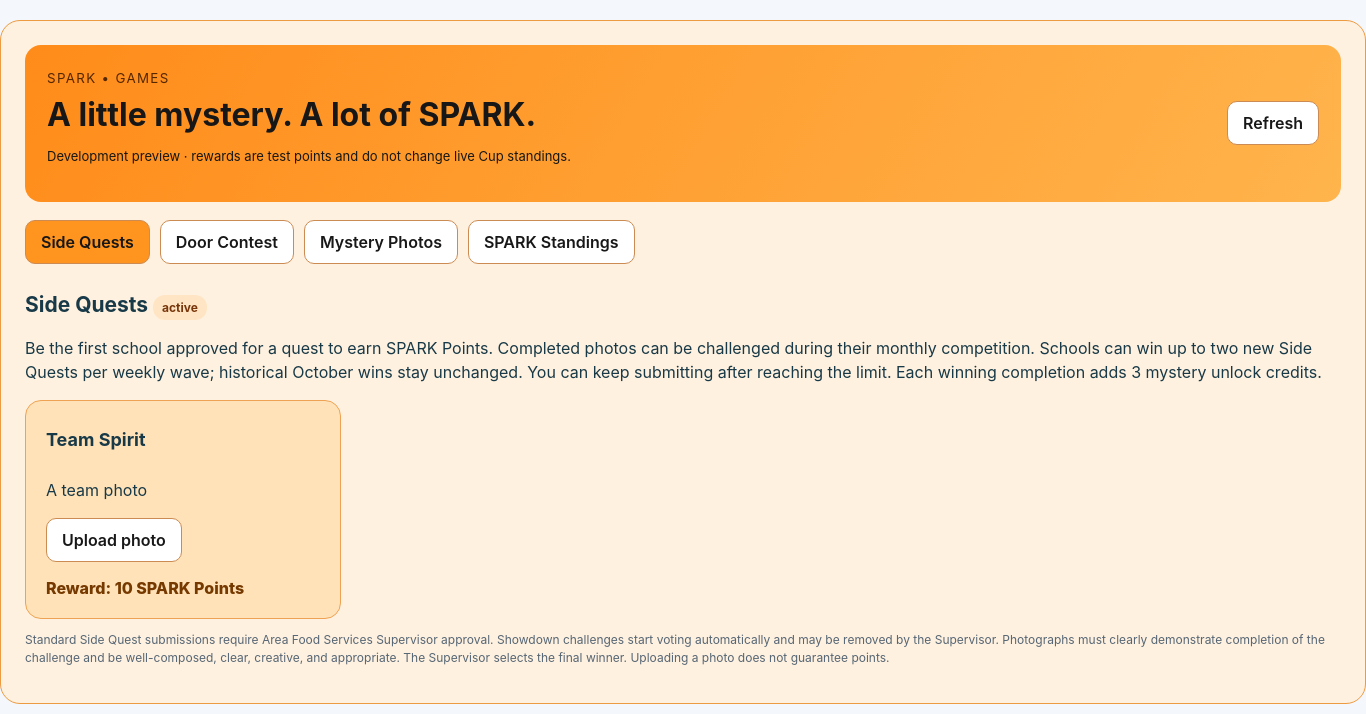
Test: a completed collection remains navigable when no current round is returned
Click the button "Mystery Photos" at [381, 242], box top-left (304, 220), bottom-right (458, 264)
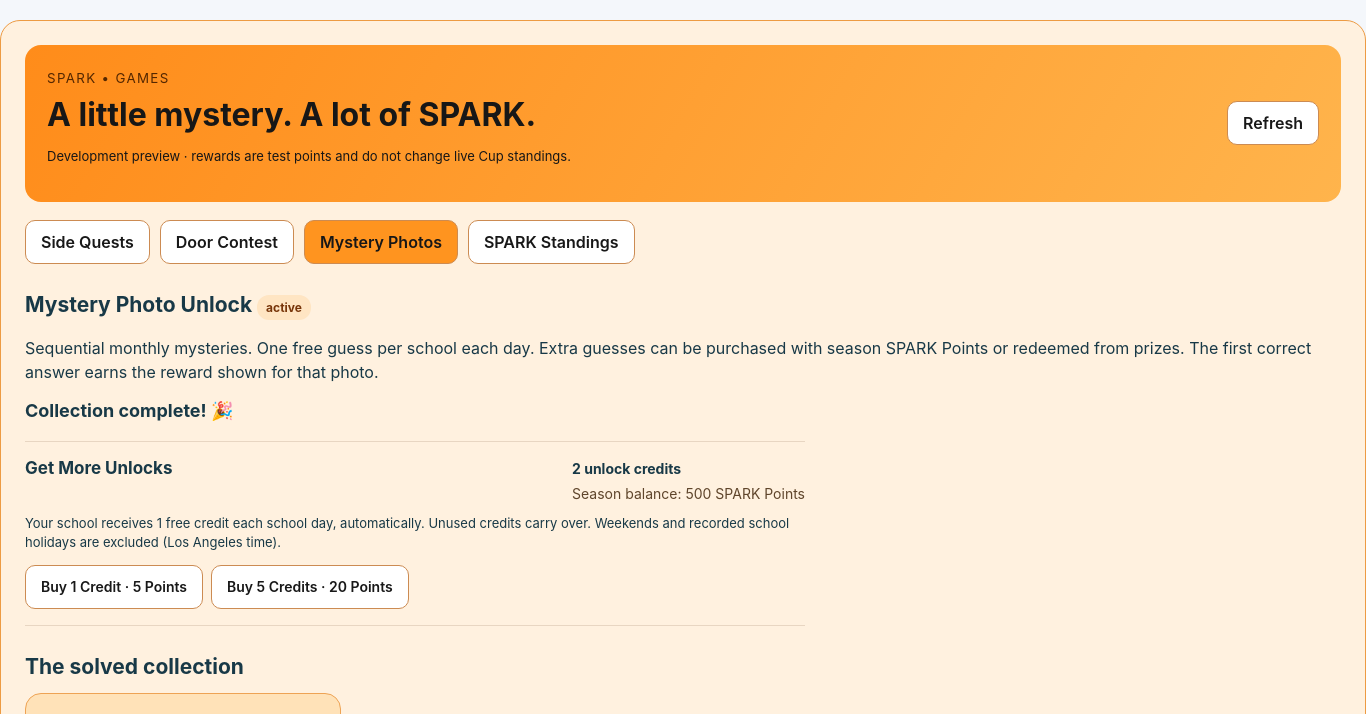
expect the text "Collection complete" is shown: met, box top-left (25, 400), bottom-right (233, 420)
Click the button "Door Contest" at [227, 242], box top-left (160, 220), bottom-right (294, 264)
(page scrolled)
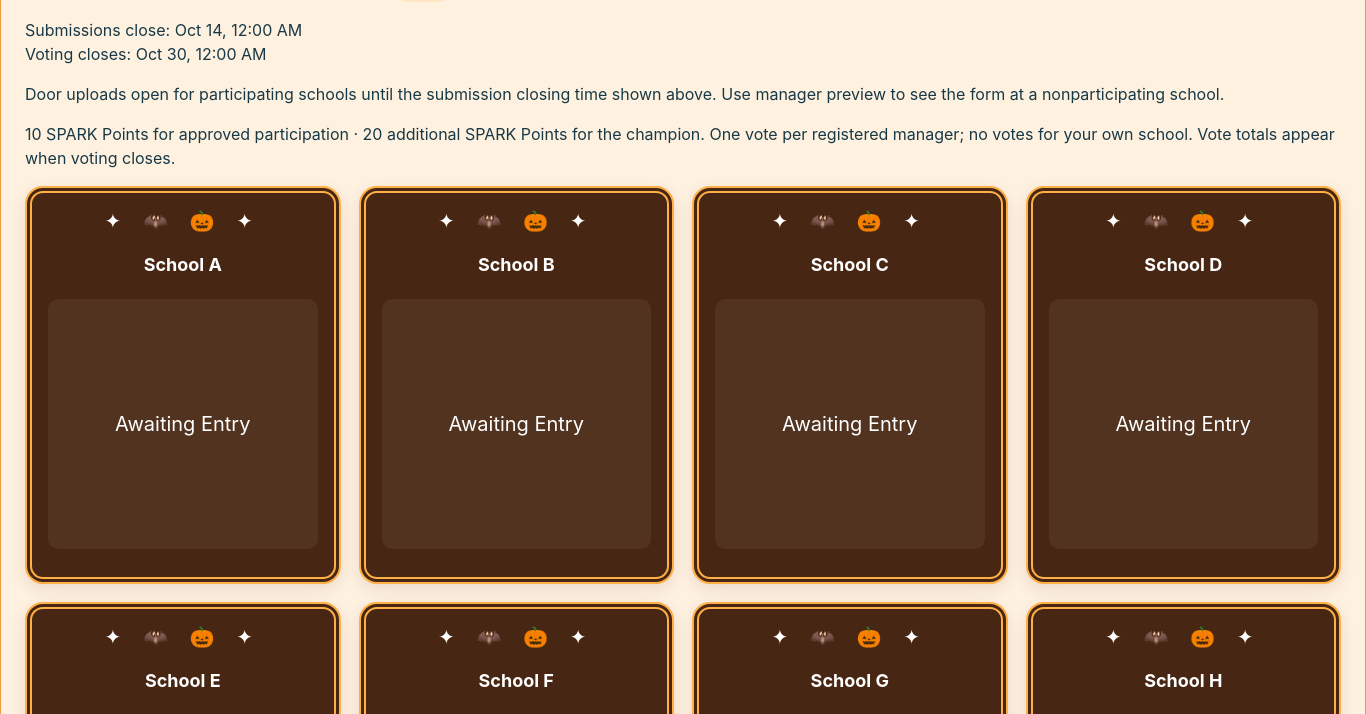
expect the element with class "og-door" that starts with "School A" is shown: met, box top-left (25, 186), bottom-right (340, 584)
